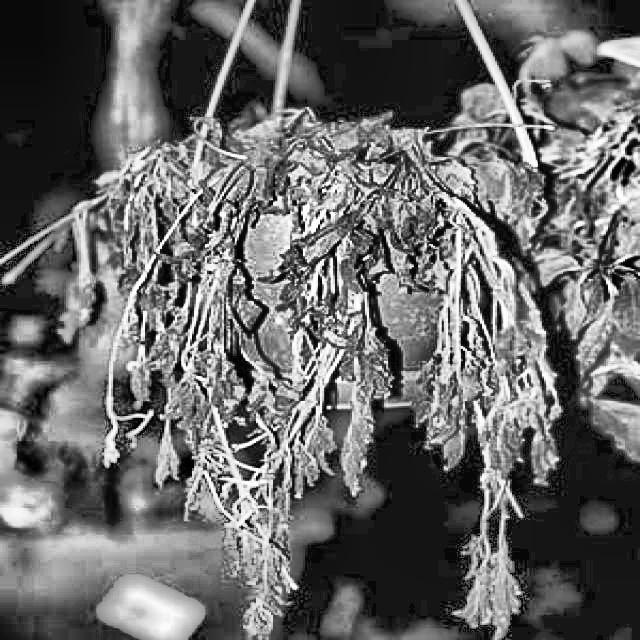plants: (42, 99, 560, 638)
